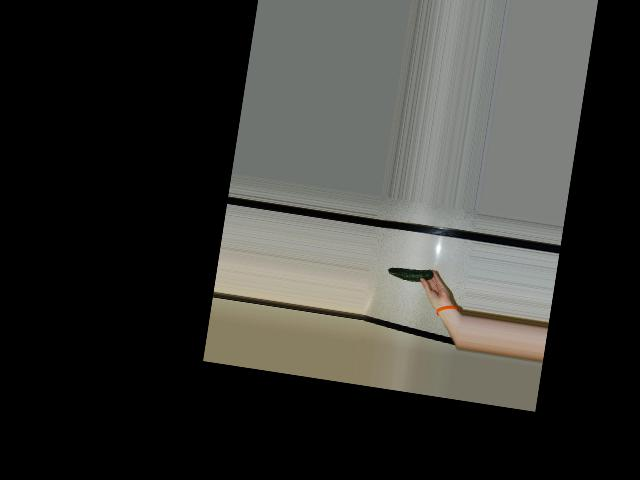cucumber: (386, 263, 434, 283)
